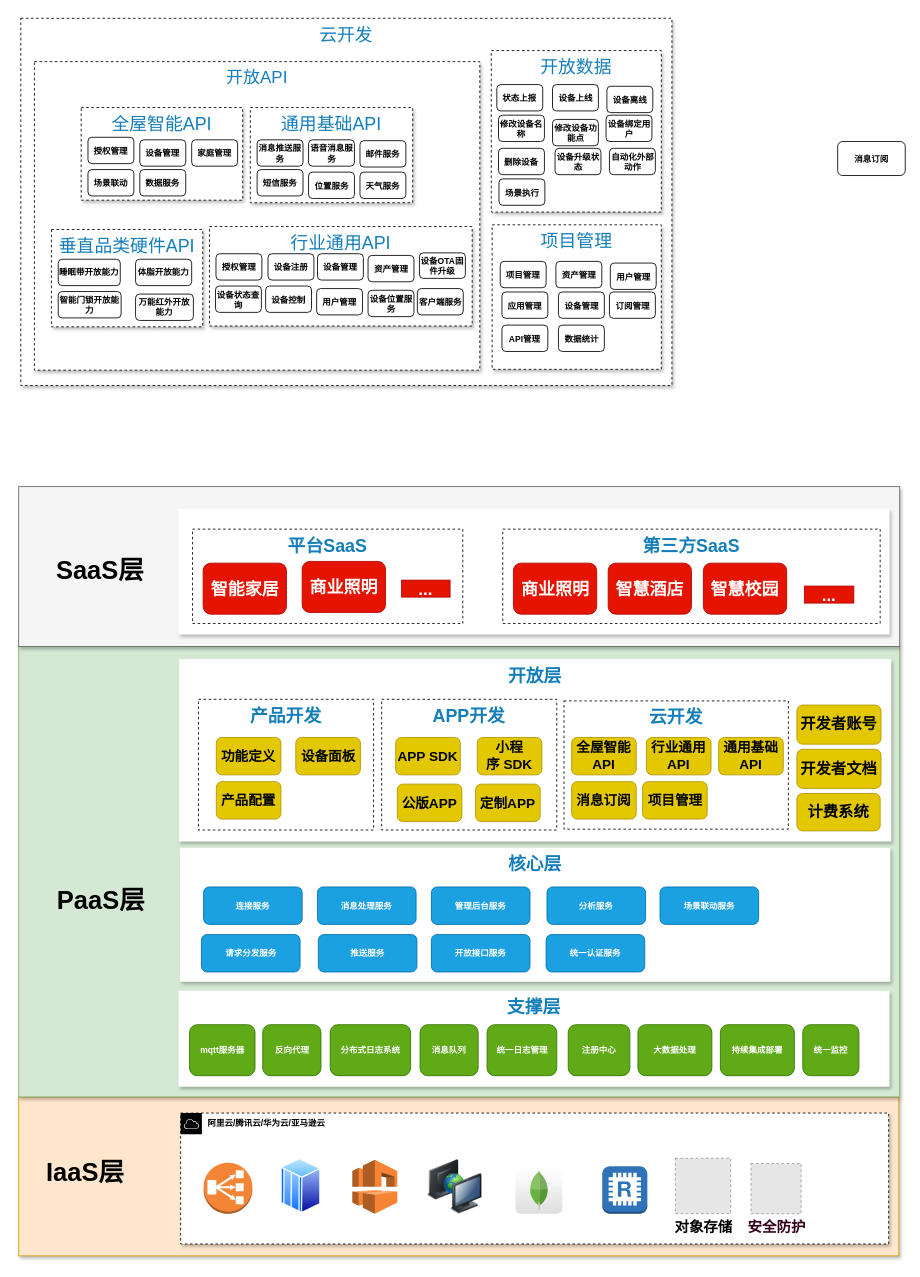
Image size: 920x1277. Some labels were removed from this diagram. Grey dashed boxes stand in for pictures. Here are the shapes that lost their labels. From the top down, the centre of each, then its label:
At pixel 227 1188: "负载均衡".
At pixel 300 1185: "云主机".
At pixel 374 1186: "VPC".
At pixel 455 1186: "基础网络".
At pixel 538 1190: "云数据库".
At pixel 624 1189: "云缓存".
